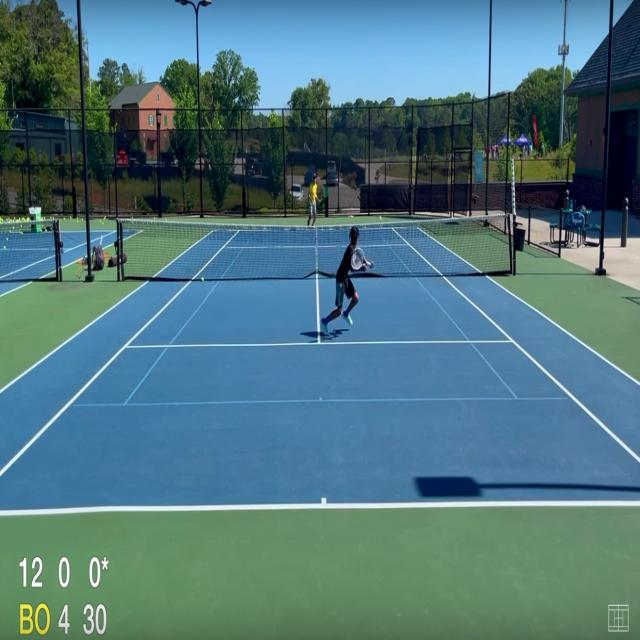ball: (379, 215, 382, 222), (201, 276, 204, 282)
